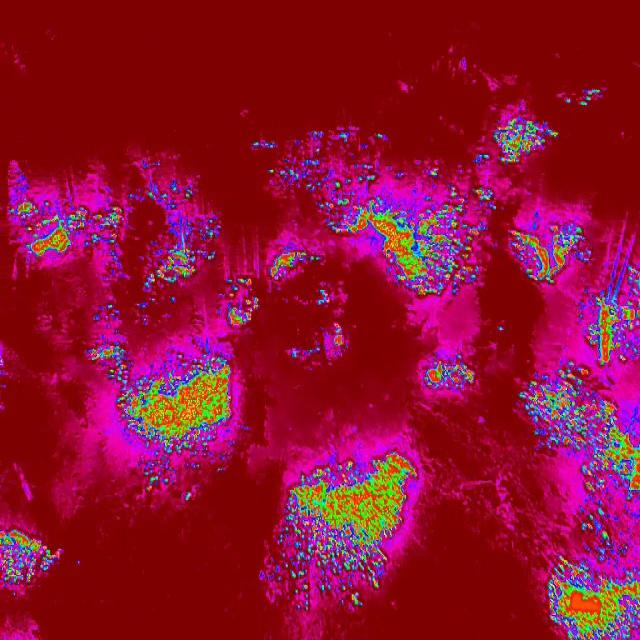fire: (83, 333, 242, 503), (269, 446, 423, 616), (259, 123, 497, 233), (520, 366, 640, 499), (14, 180, 124, 260), (547, 550, 640, 640), (142, 152, 192, 292), (378, 233, 483, 299), (579, 262, 640, 366), (512, 212, 590, 284), (482, 108, 564, 166), (0, 521, 60, 597), (416, 353, 480, 397), (192, 205, 224, 270), (262, 252, 328, 282), (228, 277, 262, 327)
